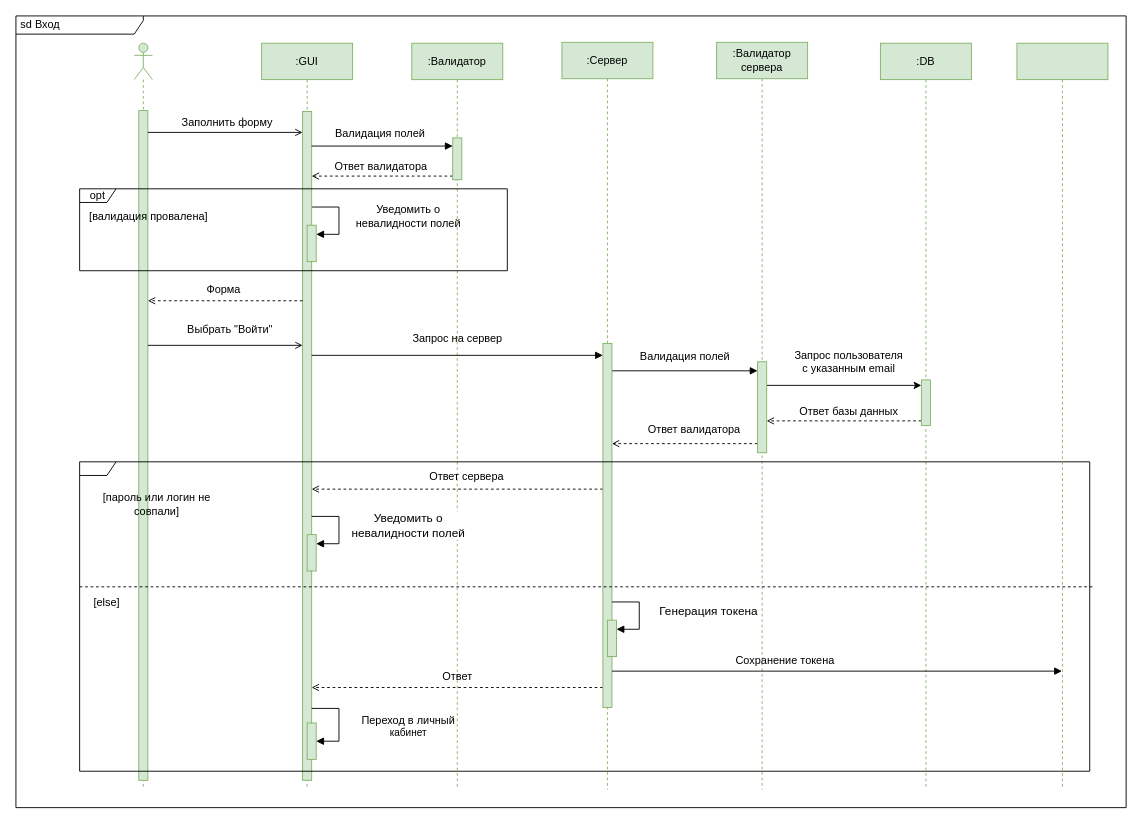
Image size: 1142x824. Some labels were removed from this diagram. Here are the shapes that lost their labels. From the top down, the box of each, then its label:
(1016, 42, 1108, 789): :Браузер
(79, 461, 1090, 771): alt
